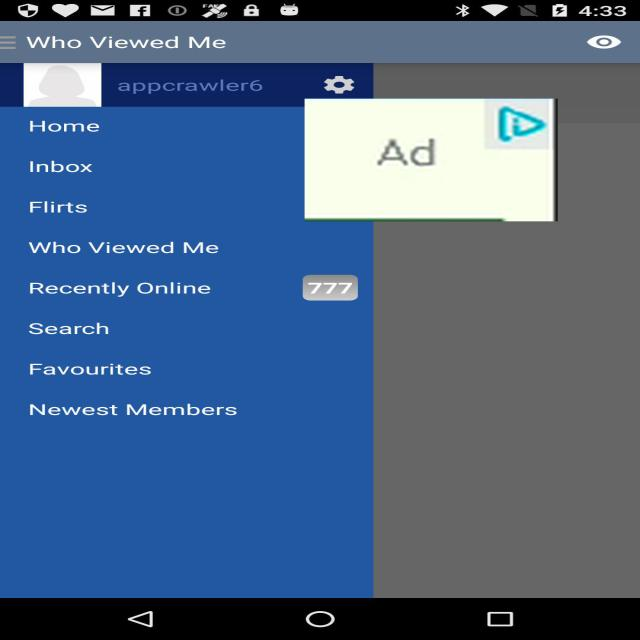sneaking: (304, 99, 558, 221)
